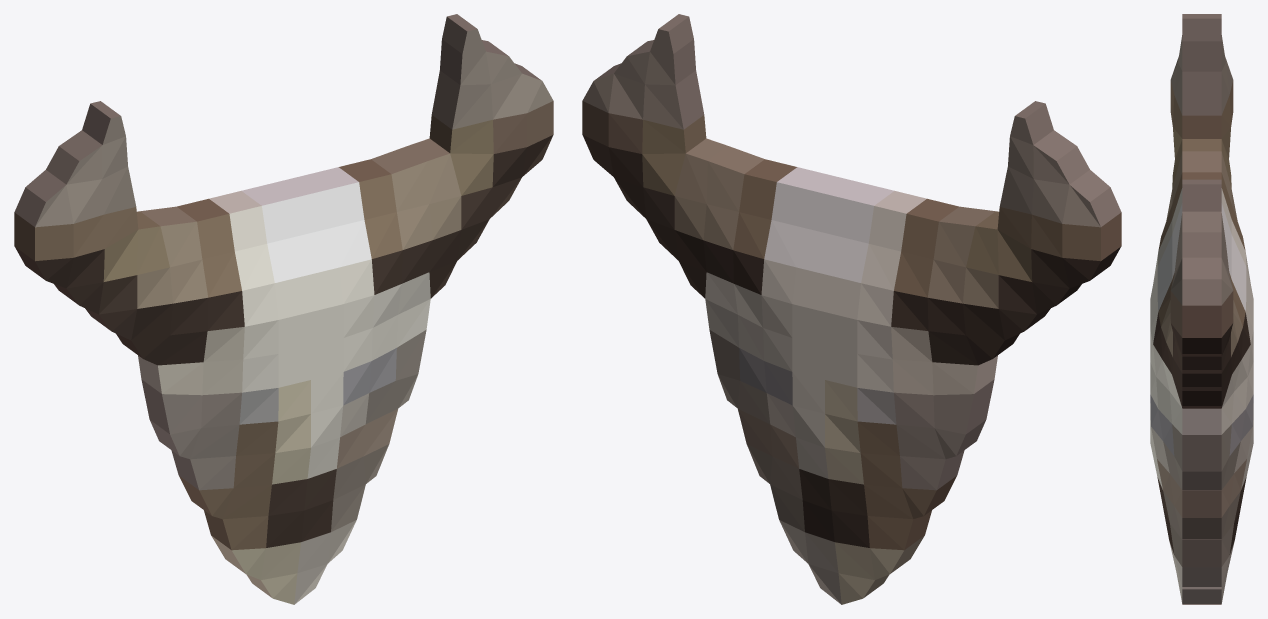
Rendered from cow_skull.glb.
3 renders of one model, left to right at view 1: azimuth 30°, elevation 25°; view 2: azimuth 150°, elevation 25°; view 3: azimuth 270°, elevation 25°, orthographic. The views are drawn at different scales.
Visible parts, largest first — view 1: cow_skull; view 2: cow_skull; view 3: cow_skull.
Boxes of the visible parts, x1=… form: cow_skull: x1=14, y1=14, x2=553, y2=604; cow_skull: x1=582, y1=14, x2=1121, y2=604; cow_skull: x1=1150, y1=14, x2=1253, y2=604.
Size of the model in its own units: 1 by 0.9788 by 0.1813.
1 material, 1 textured.
